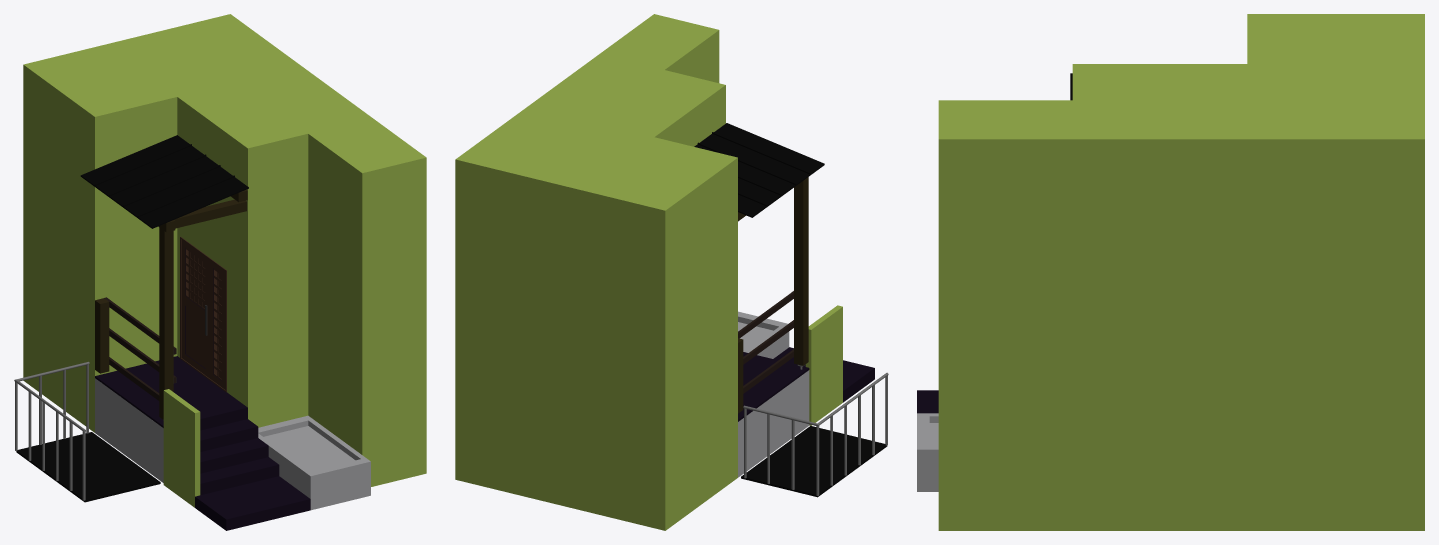
File: myhome.glb
The picture shows the model from 3 angles, left to right: view 1: azimuth 30°, elevation 25°; view 2: azimuth 150°, elevation 25°; view 3: azimuth 270°, elevation 25°; orthographic projection. The views are drawn at different scales.
Parts seen in each view (by area): view 1: wall, tile, RC, roof, door, ev, wood, metal, twofour; view 2: wall, roof, RC, ev, wood, tile, metal, twofour; view 3: wall, RC.
Part boxes in pixels (bbox=[...]): wall: bbox=[23, 14, 426, 507]; tile: bbox=[95, 248, 310, 530]; RC: bbox=[95, 378, 370, 510]; roof: bbox=[80, 135, 248, 228]; door: bbox=[180, 237, 226, 392]; ev: bbox=[16, 432, 160, 502]; wood: bbox=[95, 189, 247, 419]; metal: bbox=[14, 361, 89, 500]; twofour: bbox=[104, 297, 176, 400]; wall: bbox=[455, 14, 842, 530]; roof: bbox=[694, 123, 824, 217]; RC: bbox=[738, 311, 809, 477]; ev: bbox=[741, 426, 887, 497]; wood: bbox=[738, 177, 808, 413]; tile: bbox=[738, 347, 874, 421]; metal: bbox=[743, 364, 888, 495]; twofour: bbox=[738, 291, 793, 393]; wall: bbox=[938, 14, 1424, 530]; RC: bbox=[917, 413, 938, 491].
Size of what is drawn, in the model's own units: 4.75 by 5 by 5.87.
